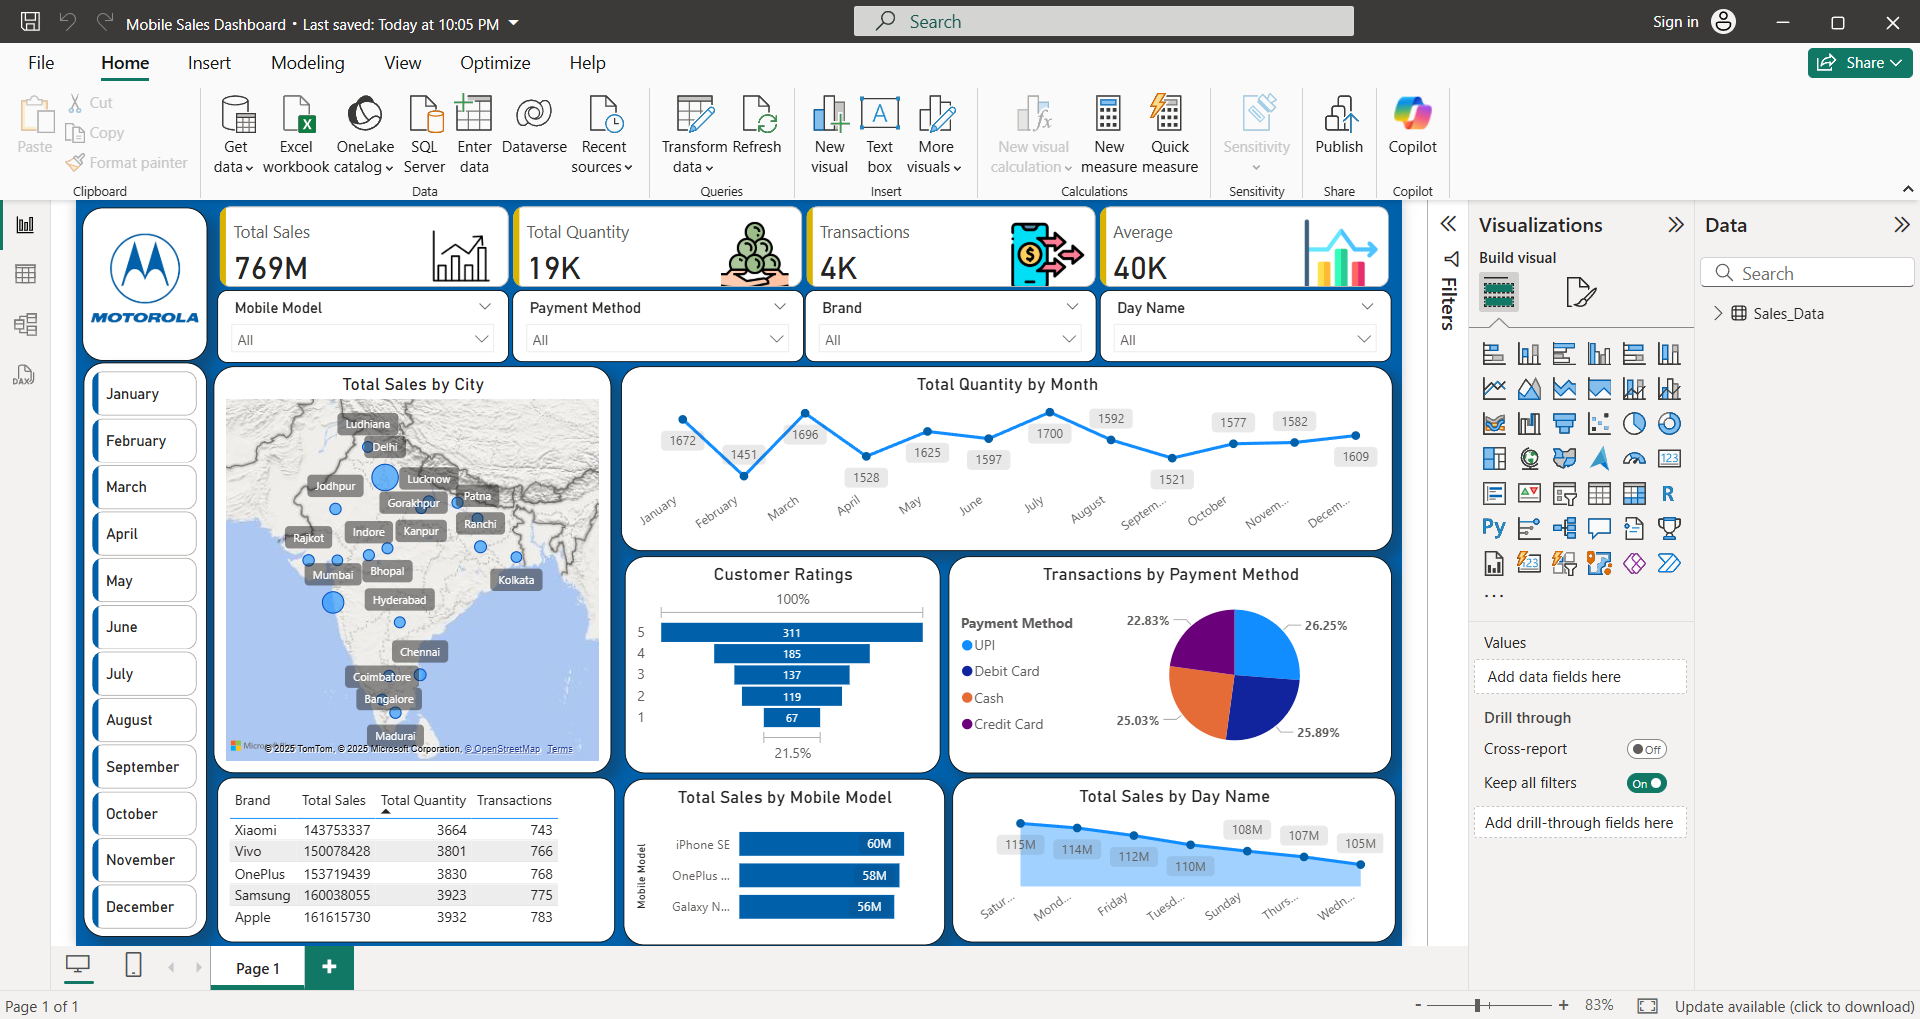

What the dashboard file says about the page in this screenshot:
{"tool":"powerbi","page":{"name":"Page 1","canvas":[1280,720],"ordinal":0},"visuals":[{"type":"shape","box":[5.5,6.9,120.8,148.2],"z":0},{"type":"image","box":[9.6,16.5,113.9,116.6],"z":1000},{"type":"shape","box":[6.9,156.4,119.4,554.4],"z":2000},{"type":"advancedSlicerVisual","fields":{"Values":["Sales_Data.Date.Variation.Date Hierarchy.Month"]},"box":[11,160.5,111.1,548.9],"z":3000},{"type":"cardVisual","fields":{"Data":["Sales_Data.Total Sales","Sales_Data.Total Quantity","Sales_Data.Transactions","Sales_Data.Average"]},"box":[134,5.6,1140.1,83.7],"z":4000},{"type":"map","fields":{"Category":["Sales_Data.City"],"Size":["Sales_Data.Total Sales"]},"box":[132.9,160.8,384.1,393.1],"z":5000},{"type":"lineChart","fields":{"Y":["Sales_Data.Total Quantity"],"Category":["Sales_Data.Date.Variation.Date Hierarchy.Month","Sales_Data.Date.Variation.Date Hierarchy.Day"]},"box":[525.9,160.8,744.8,178.7],"z":6000},{"type":"clusteredBarChart","fields":{"Category":["Sales_Data.Mobile Model"],"Y":["Sales_Data.Total Sales"]},"box":[528.3,558.5,310.1,160.5],"z":7000},{"type":"pieChart","fields":{"Category":["Sales_Data.Payment Method"],"Y":["Sales_Data.Transactions"]},"box":[842.5,344.4,428.1,209.9],"z":8000},{"type":"funnel","title":"Customer Ratings","fields":{"Category":["Sales_Data.Customer Ratings"],"Y":["Sum(Sales_Data.Customer Ratings)"]},"box":[529.7,344.4,304.6,209.9],"z":9000},{"type":"areaChart","fields":{"Category":["Sales_Data.Day Name"],"Y":["Sales_Data.Total Sales"]},"box":[845.3,557.1,428.1,159.2],"z":10000},{"type":"tableEx","fields":{"Values":["Sales_Data.Brand","Sales_Data.Total Sales","Sales_Data.Total Quantity","Sales_Data.Transactions"]},"box":[135.8,557.1,384.2,159.2],"z":11000},{"type":"slicer","fields":{"Values":["Sales_Data.Mobile Model"]},"box":[136.2,87.1,281.4,70.3],"z":12000},{"type":"slicer","fields":{"Values":["Sales_Data.Payment Method"]},"box":[421,87.1,281.4,69.2],"z":13000},{"type":"slicer","fields":{"Values":["Sales_Data.Brand"]},"box":[703.5,87.1,281.4,69.2],"z":14000},{"type":"slicer","fields":{"Values":["Sales_Data.Day Name"]},"box":[988.2,87.1,281.4,69.2],"z":15000}]}

Visuals, with their boxes on the page's 1280x720 design canvas (x1, y1, x2, y2). These are canvas units, not pixel positions in the 1920x1019 screenshot, which may show the page scaled, cropped or inside an application window:
shape: (left=6, top=7, right=126, bottom=155)
image: (left=10, top=16, right=124, bottom=133)
shape: (left=7, top=156, right=126, bottom=711)
advancedSlicerVisual - Sales_Data.Date.Variation.Date Hierarchy.Month: (left=11, top=160, right=122, bottom=709)
cardVisual - Sales_Data.Total Sales x Sales_Data.Total Quantity: (left=134, top=6, right=1274, bottom=89)
map - Sales_Data.City x Sales_Data.Total Sales: (left=133, top=161, right=517, bottom=554)
lineChart - Sales_Data.Total Quantity x Sales_Data.Date.Variation.Date Hierarchy.Month: (left=526, top=161, right=1271, bottom=340)
clusteredBarChart - Sales_Data.Mobile Model x Sales_Data.Total Sales: (left=528, top=558, right=838, bottom=719)
pieChart - Sales_Data.Payment Method x Sales_Data.Transactions: (left=842, top=344, right=1271, bottom=554)
"Customer Ratings" funnel: (left=530, top=344, right=834, bottom=554)
areaChart - Sales_Data.Day Name x Sales_Data.Total Sales: (left=845, top=557, right=1273, bottom=716)
tableEx - Sales_Data.Brand x Sales_Data.Total Sales: (left=136, top=557, right=520, bottom=716)
slicer - Sales_Data.Mobile Model: (left=136, top=87, right=418, bottom=157)
slicer - Sales_Data.Payment Method: (left=421, top=87, right=702, bottom=156)
slicer - Sales_Data.Brand: (left=704, top=87, right=985, bottom=156)
slicer - Sales_Data.Day Name: (left=988, top=87, right=1270, bottom=156)
